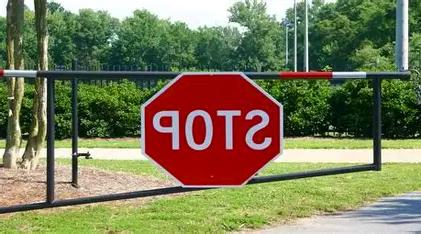Stop: (143, 72, 282, 186)
